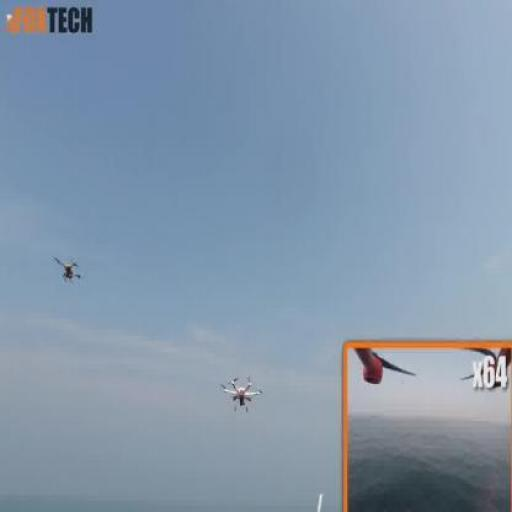drone: (218, 373, 267, 413), (54, 255, 82, 280)
